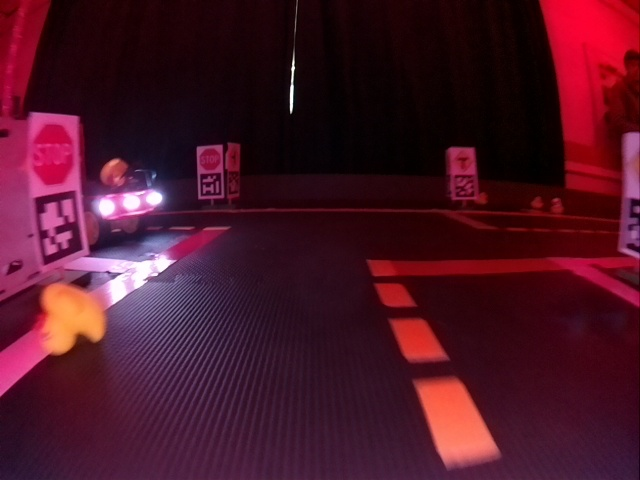Duckie: (37, 286, 104, 349), (101, 159, 126, 185), (551, 198, 561, 210), (478, 192, 488, 203), (532, 197, 541, 207)
Duckiebot: (85, 177, 160, 249)
Intersection sign: (450, 147, 472, 172)
QR code: (33, 192, 85, 262), (198, 174, 223, 199), (455, 176, 477, 198), (227, 173, 240, 197)
Stop sign: (31, 112, 79, 186), (197, 147, 222, 169)
